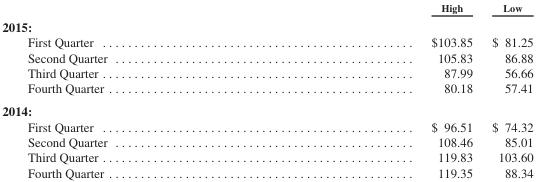table: (1, 1, 532, 179)
table column: (1, 1, 268, 179), (268, 1, 481, 179), (481, 1, 532, 179)
table column header: (1, 1, 532, 15)
table projected row header: (1, 15, 532, 34), (1, 99, 532, 118)
table row: (1, 15, 532, 34), (1, 80, 532, 99), (1, 99, 532, 118), (1, 64, 532, 80), (1, 133, 532, 149), (1, 34, 532, 49), (1, 49, 532, 64), (1, 118, 532, 133), (1, 149, 532, 164), (1, 164, 532, 179), (1, 1, 532, 15)
